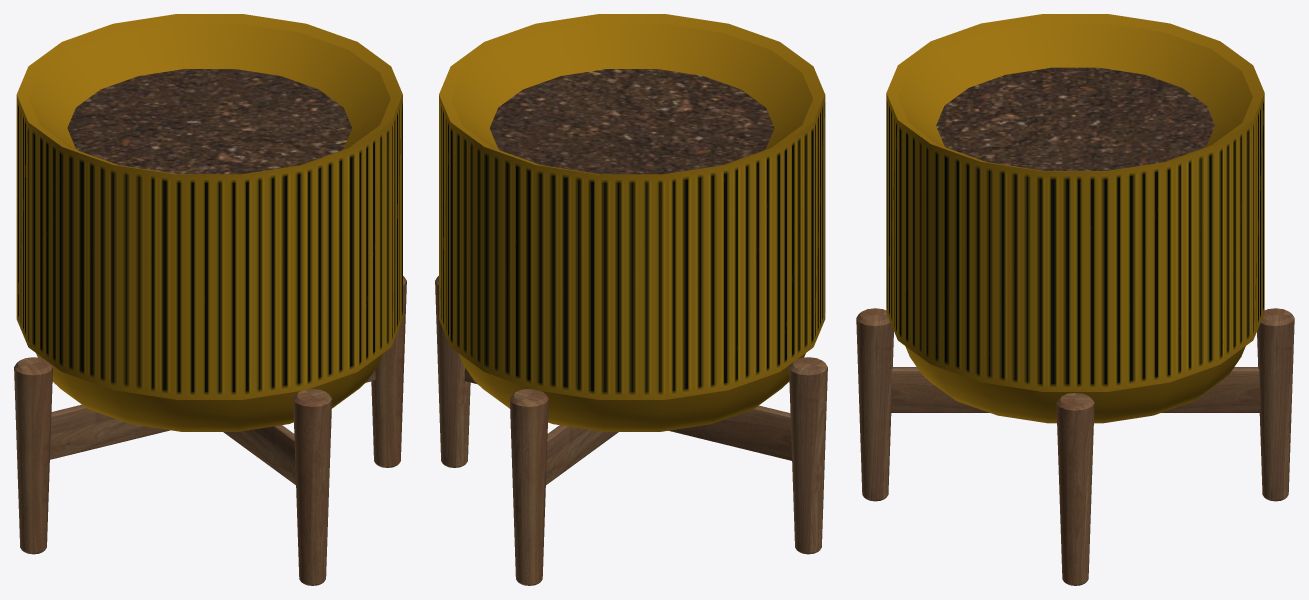
Rendered from pot22.FBX.
3 views of the same model, side by side, from view 1: azimuth 30°, elevation 25°; view 2: azimuth 150°, elevation 25°; view 3: azimuth 270°, elevation 25° (orthographic). The views are drawn at different scales.
Visible parts, largest first — view 1: pot22; view 2: pot22; view 3: pot22.
Part boxes in pixels (<box>): pot22: <box>14,14,406,585</box>; pot22: <box>435,14,827,585</box>; pot22: <box>856,14,1294,585</box>.
Bounding box in the file's own units: 12 × 12 × 12.2.
